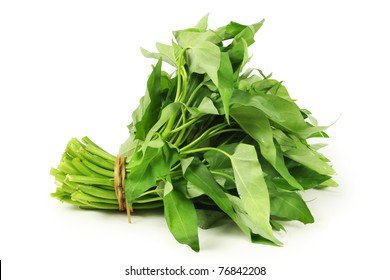Kangkung: (111, 16, 336, 247)
